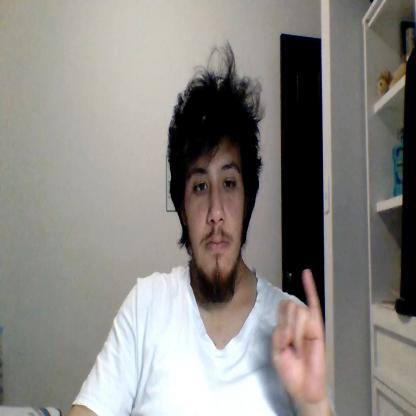I: (269, 269, 328, 395)
